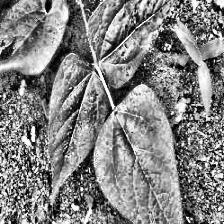ALS: (102, 93, 182, 224), (108, 0, 187, 84)
